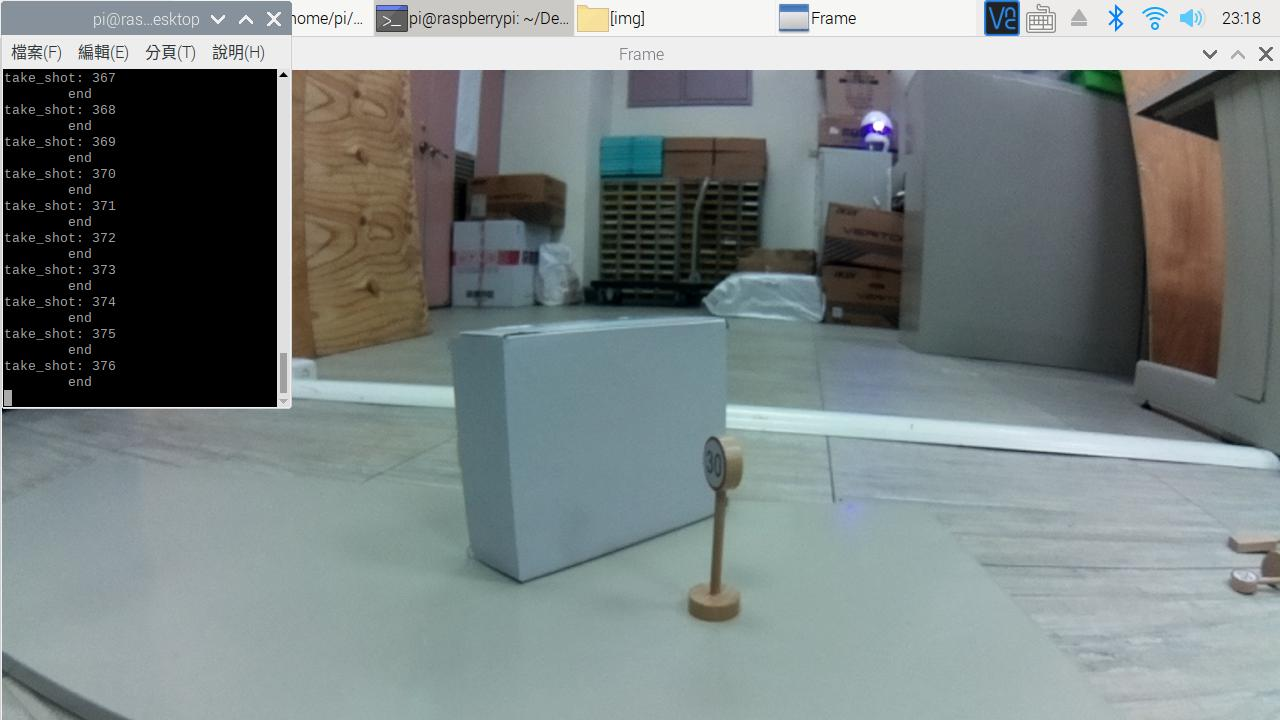Speed30: (683, 417, 759, 521)
